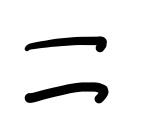eqv: (24, 36, 109, 106)
